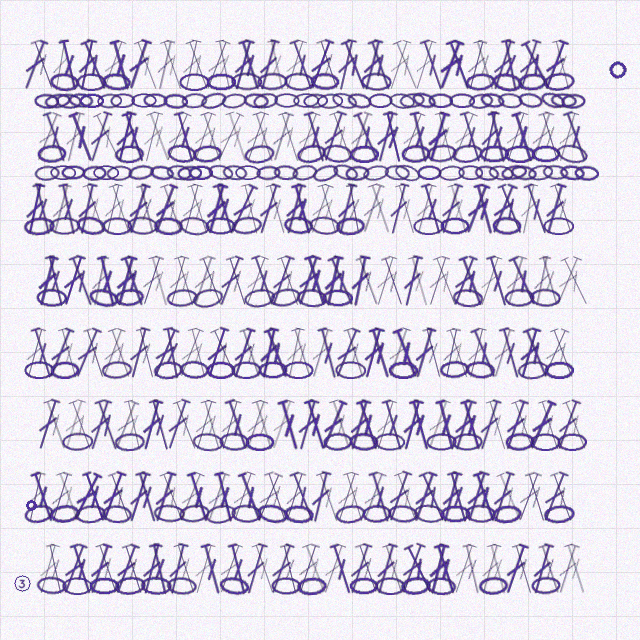chain: (555, 142, 589, 166), (191, 286, 225, 310), (204, 502, 238, 526), (87, 286, 120, 310), (295, 142, 328, 165), (269, 286, 302, 309), (256, 502, 289, 525), (75, 214, 107, 237), (23, 502, 55, 525), (243, 143, 276, 165), (178, 215, 211, 237), (243, 287, 276, 309), (334, 503, 367, 525), (491, 71, 523, 93), (218, 575, 250, 597), (321, 143, 354, 164), (451, 143, 484, 164), (178, 503, 211, 524), (543, 71, 575, 92), (166, 143, 198, 164), (231, 215, 263, 236), (309, 215, 341, 236), (413, 503, 445, 524), (114, 575, 146, 596), (426, 143, 457, 164), (283, 215, 314, 236), (114, 287, 145, 308), (49, 503, 80, 524), (400, 575, 431, 596), (23, 216, 55, 236), (166, 288, 198, 308), (296, 288, 328, 308), (452, 288, 484, 308), (101, 360, 133, 380), (517, 360, 549, 380), (192, 432, 224, 452), (101, 504, 133, 524), (387, 504, 419, 524), (543, 504, 575, 524), (330, 90, 359, 112), (311, 162, 340, 184), (393, 162, 422, 184), (49, 72, 80, 92), (101, 72, 132, 92), (465, 72, 496, 92), (517, 72, 548, 92), (114, 144, 145, 164), (192, 144, 223, 164), (153, 216, 184, 236), (335, 216, 366, 236), (153, 360, 184, 380), (465, 360, 496, 380), (114, 432, 145, 452), (75, 504, 106, 524), (283, 504, 314, 524), (491, 504, 522, 524), (166, 576, 197, 596), (296, 576, 327, 596), (426, 576, 457, 596), (199, 90, 228, 111), (331, 162, 360, 183), (153, 504, 185, 523), (140, 576, 172, 595), (231, 72, 262, 91), (257, 72, 288, 91), (361, 72, 392, 91), (127, 216, 158, 235), (36, 288, 67, 307), (504, 288, 535, 307), (530, 288, 561, 307), (179, 360, 210, 379), (439, 360, 470, 379), (62, 432, 93, 451), (231, 504, 262, 523), (465, 504, 496, 523), (36, 576, 67, 595), (478, 576, 509, 595), (410, 90, 438, 111), (539, 90, 567, 111), (284, 72, 314, 91), (310, 72, 340, 91), (37, 144, 67, 163), (401, 144, 431, 163), (492, 216, 522, 235), (219, 432, 249, 451), (323, 432, 353, 451), (349, 432, 379, 451), (505, 432, 535, 451), (362, 504, 392, 523), (531, 576, 561, 595), (362, 163, 390, 183), (179, 73, 210, 91), (504, 145, 535, 163), (49, 217, 80, 235), (205, 217, 236, 235), (413, 217, 444, 235), (543, 217, 574, 235), (322, 289, 353, 307), (231, 361, 262, 379), (283, 361, 314, 379), (335, 361, 366, 379), (374, 433, 405, 451), (426, 433, 457, 451), (452, 433, 483, 451), (530, 433, 561, 451), (62, 577, 93, 595), (76, 73, 106, 91), (206, 73, 236, 91), (346, 91, 373, 111), (349, 145, 379, 163), (479, 145, 509, 163), (531, 145, 561, 163), (102, 217, 132, 235), (440, 217, 470, 235), (24, 361, 54, 379), (50, 361, 80, 379), (206, 361, 236, 379), (258, 361, 288, 379), (388, 361, 418, 379), (544, 361, 574, 379), (245, 433, 275, 451), (557, 433, 587, 451), (440, 505, 470, 523), (89, 577, 119, 595), (271, 577, 301, 595), (349, 577, 379, 595), (375, 577, 405, 595), (127, 163, 155, 182), (500, 163, 528, 182), (252, 91, 279, 110), (479, 91, 506, 110), (517, 91, 544, 110), (207, 163, 234, 182), (291, 163, 318, 182), (527, 163, 554, 182), (388, 92, 416, 110), (44, 92, 71, 110), (510, 164, 537, 182), (221, 92, 247, 110), (468, 92, 494, 110), (149, 164, 175, 182), (474, 164, 500, 182), (488, 164, 514, 182), (181, 92, 208, 109), (550, 92, 577, 109), (542, 164, 569, 181), (68, 92, 94, 109), (243, 92, 269, 109), (399, 92, 425, 109), (497, 92, 523, 109), (166, 164, 192, 181), (222, 164, 248, 181), (273, 164, 299, 181), (384, 164, 410, 181), (559, 164, 585, 181), (55, 93, 82, 109), (106, 165, 133, 181), (438, 165, 465, 181), (317, 93, 343, 109), (34, 165, 60, 181), (34, 93, 59, 109), (97, 93, 122, 109), (163, 93, 188, 109), (303, 93, 328, 109), (561, 93, 586, 109), (82, 165, 107, 181), (177, 165, 202, 181), (256, 165, 281, 181), (345, 165, 370, 181), (574, 165, 599, 181), (131, 93, 157, 108), (274, 93, 300, 108), (293, 93, 319, 108), (449, 93, 475, 108), (50, 165, 76, 180), (93, 165, 119, 180), (235, 165, 261, 180), (79, 93, 104, 108), (110, 93, 135, 108), (143, 93, 168, 108), (368, 93, 393, 108), (428, 93, 453, 108), (61, 165, 86, 180), (188, 165, 213, 180), (417, 165, 442, 180), (458, 165, 483, 180)
double: (517, 38, 556, 92), (67, 470, 106, 524), (400, 542, 439, 596), (89, 110, 127, 164), (211, 110, 248, 164), (224, 182, 261, 236), (505, 254, 542, 308), (557, 254, 594, 308), (206, 326, 243, 380), (250, 470, 287, 524), (492, 470, 529, 524), (485, 182, 521, 236), (324, 254, 360, 308), (69, 326, 105, 380), (147, 326, 183, 380), (537, 326, 573, 380), (524, 398, 560, 452), (415, 470, 451, 524), (142, 109, 177, 164), (511, 469, 546, 524), (212, 541, 247, 596), (298, 541, 333, 596), (77, 38, 112, 92), (337, 38, 372, 92), (389, 38, 424, 92), (433, 38, 468, 92), (30, 110, 65, 164), (160, 110, 195, 164), (350, 110, 385, 164), (446, 110, 481, 164), (550, 254, 585, 308), (43, 326, 78, 380), (173, 326, 208, 380), (329, 326, 364, 380), (389, 326, 424, 380), (467, 326, 502, 380), (519, 326, 554, 380), (108, 398, 143, 452), (316, 398, 351, 452), (558, 398, 593, 452), (173, 470, 208, 524), (537, 470, 572, 524), (26, 37, 60, 92), (304, 37, 338, 92), (239, 109, 273, 164), (325, 109, 359, 164), (343, 109, 377, 164), (559, 109, 593, 164), (78, 181, 112, 236), (247, 253, 281, 308), (291, 253, 325, 308), (39, 397, 73, 452), (265, 397, 299, 452), (421, 397, 455, 452), (52, 469, 86, 524), (78, 469, 112, 524), (96, 469, 130, 524), (382, 469, 416, 524), (247, 541, 281, 596), (395, 541, 429, 596), (18, 38, 52, 92), (96, 38, 130, 92), (130, 38, 164, 92), (200, 38, 234, 92), (442, 38, 476, 92), (538, 38, 572, 92), (65, 110, 99, 164), (395, 110, 429, 164), (148, 182, 182, 236), (460, 182, 494, 236), (494, 182, 528, 236), (65, 254, 99, 308), (195, 254, 229, 308), (213, 254, 247, 308), (239, 254, 273, 308), (351, 254, 385, 308), (429, 254, 463, 308), (447, 254, 481, 308), (455, 254, 489, 308), (260, 326, 294, 380), (546, 326, 580, 380), (169, 398, 203, 452), (507, 398, 541, 452), (156, 470, 190, 524), (234, 470, 268, 524), (286, 470, 320, 524), (356, 470, 390, 524), (390, 470, 424, 524), (57, 542, 91, 596), (109, 542, 143, 596), (122, 37, 155, 92), (312, 37, 345, 92), (221, 109, 254, 164), (317, 109, 350, 164), (499, 109, 532, 164), (525, 109, 558, 164), (356, 181, 389, 236), (364, 181, 397, 236), (546, 181, 579, 236), (57, 253, 90, 308), (135, 253, 168, 308), (187, 253, 220, 308), (382, 325, 415, 380), (161, 397, 194, 452), (221, 397, 254, 452), (325, 397, 358, 452), (226, 469, 259, 524), (260, 469, 293, 524), (460, 469, 493, 524), (91, 541, 124, 596), (169, 541, 202, 596), (291, 541, 324, 596), (351, 541, 384, 596), (156, 38, 189, 92), (182, 38, 215, 92), (286, 38, 319, 92), (364, 38, 397, 92), (416, 38, 449, 92), (39, 110, 72, 164), (187, 110, 220, 164), (291, 110, 324, 164), (156, 182, 189, 236), (304, 182, 337, 236), (520, 182, 553, 236), (117, 254, 150, 308), (265, 254, 298, 308), (273, 254, 306, 308), (377, 254, 410, 308), (96, 326, 129, 380), (104, 326, 137, 380), (442, 326, 475, 380), (65, 398, 98, 452), (91, 398, 124, 452), (239, 398, 272, 452), (499, 398, 532, 452), (551, 398, 584, 452), (104, 470, 137, 524), (312, 470, 345, 524), (408, 470, 441, 524), (546, 470, 579, 524), (265, 542, 298, 596), (317, 542, 350, 596), (499, 542, 532, 596), (300, 253, 332, 308), (201, 325, 233, 380), (32, 397, 64, 452), (58, 397, 90, 452), (300, 397, 332, 452), (560, 541, 592, 596), (279, 38, 311, 92), (383, 38, 415, 92), (469, 38, 501, 92), (487, 38, 519, 92), (513, 38, 545, 92), (84, 110, 116, 164), (118, 110, 150, 164), (196, 110, 228, 164), (248, 110, 280, 164), (266, 110, 298, 164), (274, 110, 306, 164), (422, 110, 454, 164), (534, 110, 566, 164), (105, 182, 137, 236), (183, 182, 215, 236), (435, 182, 467, 236), (443, 182, 475, 236), (422, 254, 454, 308), (474, 254, 506, 308), (482, 254, 514, 308), (79, 326, 111, 380), (227, 326, 259, 380), (235, 326, 267, 380), (339, 326, 371, 380), (84, 398, 116, 452), (188, 398, 220, 452), (248, 398, 280, 452), (352, 398, 384, 452), (448, 398, 480, 452), (534, 398, 566, 452), (27, 470, 59, 524), (131, 470, 163, 524), (201, 470, 233, 524), (331, 470, 363, 524), (469, 470, 501, 524), (84, 542, 116, 596), (344, 542, 376, 596), (378, 542, 410, 596), (448, 542, 480, 596), (534, 542, 566, 596), (235, 38, 266, 92), (409, 38, 440, 92), (170, 110, 201, 164), (300, 110, 331, 164), (456, 110, 487, 164), (508, 110, 539, 164), (552, 110, 583, 164), (123, 182, 154, 236), (201, 182, 232, 236), (209, 182, 240, 236), (253, 182, 284, 236), (287, 182, 318, 236), (313, 182, 344, 236), (391, 182, 422, 236), (417, 182, 448, 236), (110, 254, 141, 308), (144, 254, 175, 308), (170, 254, 201, 308), (222, 254, 253, 308), (370, 254, 401, 308), (404, 254, 435, 308), (500, 254, 531, 308), (19, 326, 50, 380), (27, 326, 58, 380), (287, 326, 318, 380), (305, 326, 336, 380), (365, 326, 396, 380), (409, 326, 440, 380), (487, 326, 518, 380), (495, 326, 526, 380), (214, 398, 245, 452), (274, 398, 305, 452), (292, 398, 323, 452), (344, 398, 375, 452), (370, 398, 401, 452), (378, 398, 409, 452), (456, 398, 487, 452), (474, 398, 505, 452), (482, 398, 513, 452), (45, 470, 76, 524), (123, 470, 154, 524), (149, 470, 180, 524), (183, 470, 214, 524), (279, 470, 310, 524), (339, 470, 370, 524), (365, 470, 396, 524), (443, 470, 474, 524), (487, 470, 518, 524), (521, 470, 552, 524), (66, 542, 97, 596), (118, 542, 149, 596), (240, 542, 271, 596), (326, 542, 357, 596), (430, 542, 461, 596), (508, 542, 539, 596), (552, 542, 583, 596), (106, 38, 136, 92), (228, 38, 258, 92), (137, 110, 167, 164), (371, 110, 401, 164), (46, 182, 76, 236), (132, 182, 162, 236), (176, 182, 206, 236), (262, 182, 292, 236), (280, 182, 310, 236), (410, 182, 440, 236), (540, 182, 570, 236), (163, 254, 193, 308), (535, 254, 565, 308), (54, 326, 84, 380), (124, 326, 154, 380), (358, 326, 388, 380), (418, 326, 448, 380), (514, 326, 544, 380), (145, 398, 175, 452), (197, 398, 227, 452), (397, 398, 427, 452), (405, 398, 435, 452), (431, 398, 461, 452), (436, 470, 466, 524), (33, 542, 63, 596), (189, 542, 219, 596), (197, 542, 227, 596), (371, 542, 401, 596), (423, 542, 453, 596), (475, 542, 505, 596), (483, 542, 513, 596), (527, 542, 557, 596), (254, 38, 283, 92), (332, 38, 361, 92), (358, 38, 387, 92), (462, 38, 491, 92), (548, 38, 577, 92), (111, 110, 140, 164), (379, 110, 408, 164), (431, 110, 460, 164), (332, 182, 361, 236), (384, 182, 413, 236), (470, 182, 499, 236), (33, 254, 62, 308), (41, 254, 70, 308), (93, 254, 122, 308), (132, 326, 161, 380), (184, 326, 213, 380), (314, 326, 343, 380), (462, 326, 491, 380), (137, 398, 166, 452), (210, 470, 239, 524), (306, 470, 335, 524), (137, 542, 166, 596), (145, 542, 174, 596), (163, 542, 192, 596), (55, 38, 83, 92), (73, 38, 101, 92), (151, 38, 179, 92), (177, 38, 205, 92), (263, 38, 291, 92), (60, 110, 88, 164), (406, 110, 434, 164), (484, 110, 512, 164), (21, 182, 49, 236), (29, 182, 57, 236), (73, 182, 101, 236), (99, 182, 127, 236), (237, 182, 265, 236), (346, 254, 374, 308), (398, 254, 426, 308), (255, 326, 283, 380), (437, 326, 465, 380), (120, 398, 148, 452), (21, 470, 49, 524), (224, 542, 252, 596), (276, 542, 304, 596), (458, 542, 486, 596), (211, 38, 238, 92), (497, 38, 524, 92), (476, 110, 503, 164), (55, 182, 82, 236), (515, 182, 542, 236), (86, 254, 113, 308), (320, 254, 347, 308), (528, 254, 555, 308), (159, 326, 186, 380), (281, 326, 308, 380), (42, 542, 69, 596), (48, 38, 73, 92), (342, 182, 367, 236)
noise: (606, 58, 629, 81), (12, 573, 32, 593), (25, 499, 38, 512)
